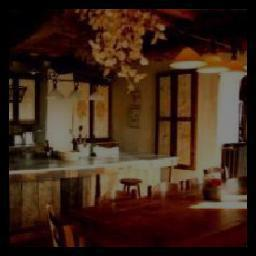Puerta: (159, 73, 192, 169)
